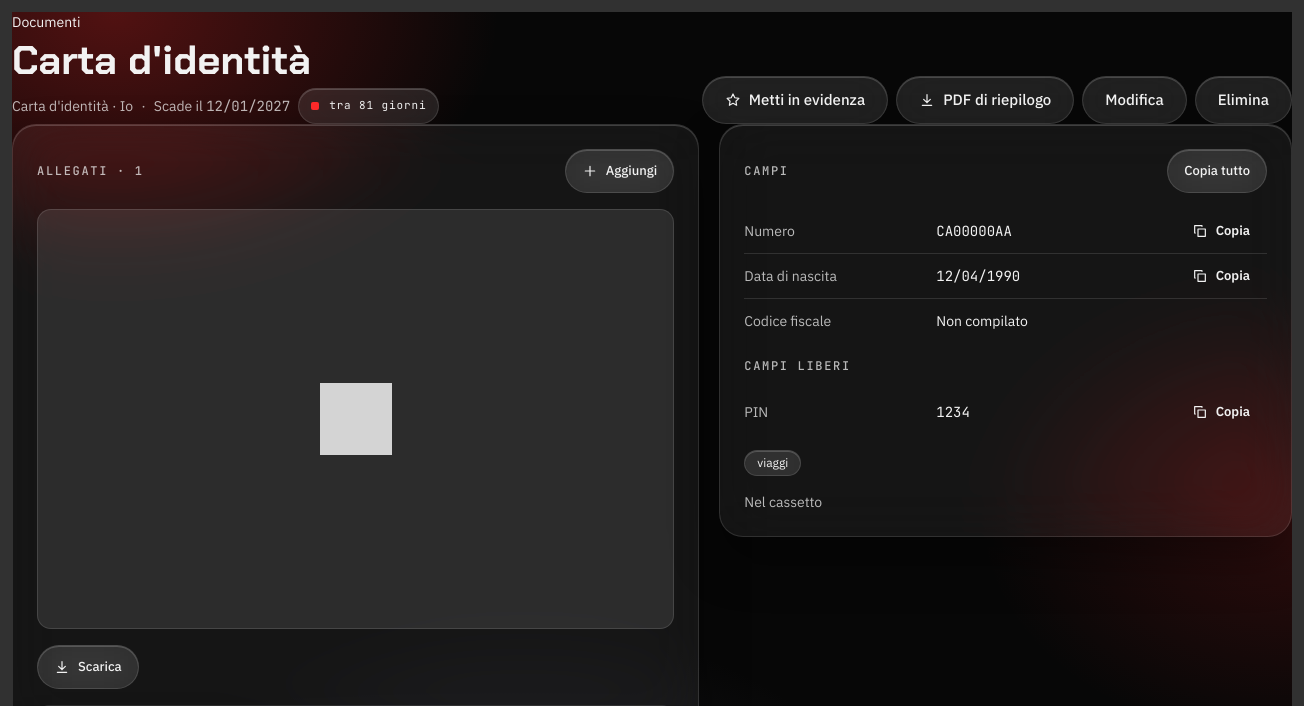
it: DocumentPage (DOC-004, DOC-009) › PDF di riepilogo: prima avvisa che è in chiaro, poi scarica (DOC-013)
Click the button "PDF di riepilogo" at [985, 100], box 896,76 -> 1074,124
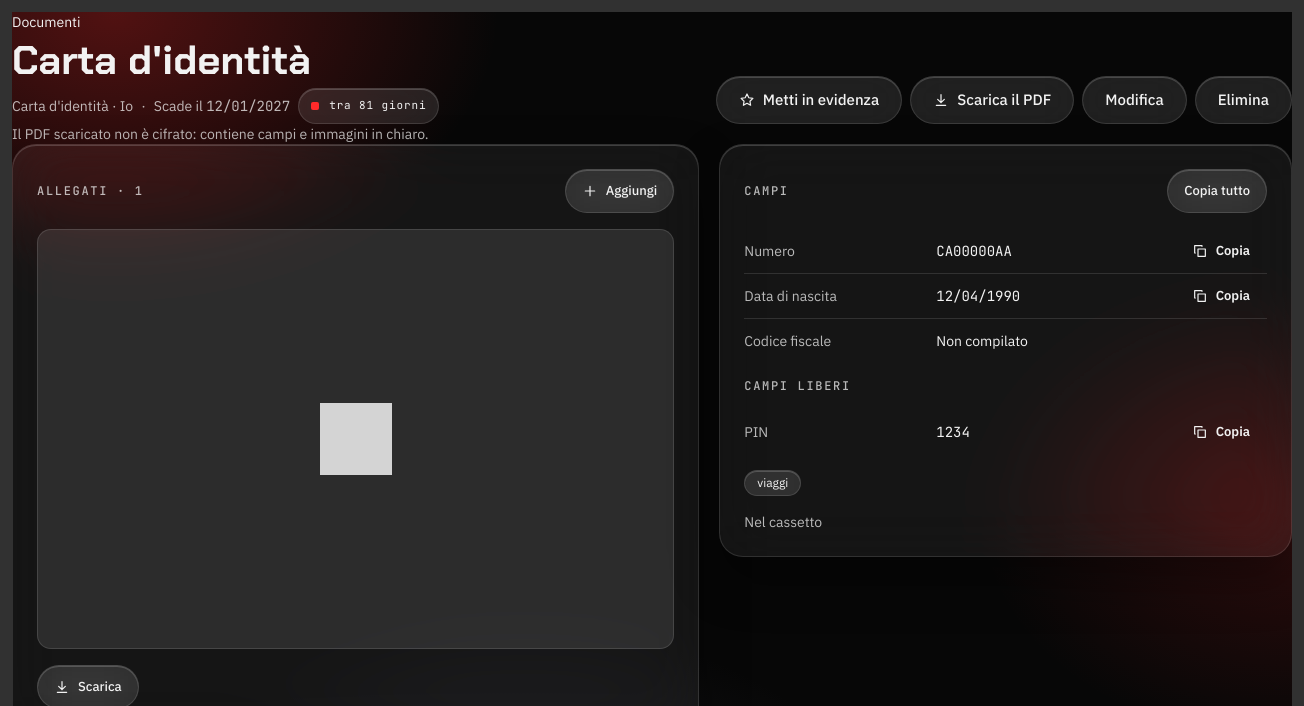
Expected: the text "Il PDF scaricato non è cifrato" is shown, 12,125 -> 429,143
